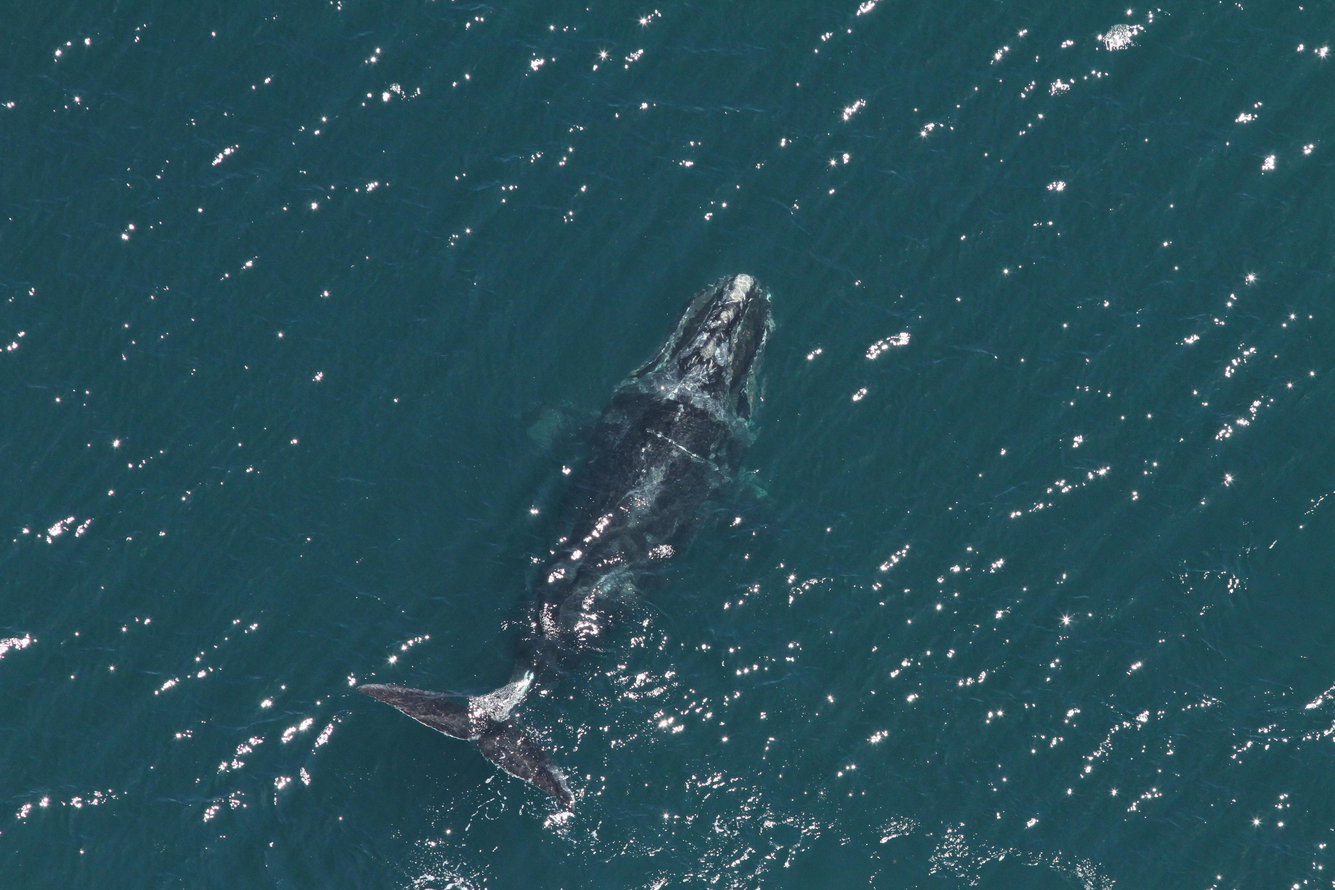whale: (349, 264, 799, 828)
